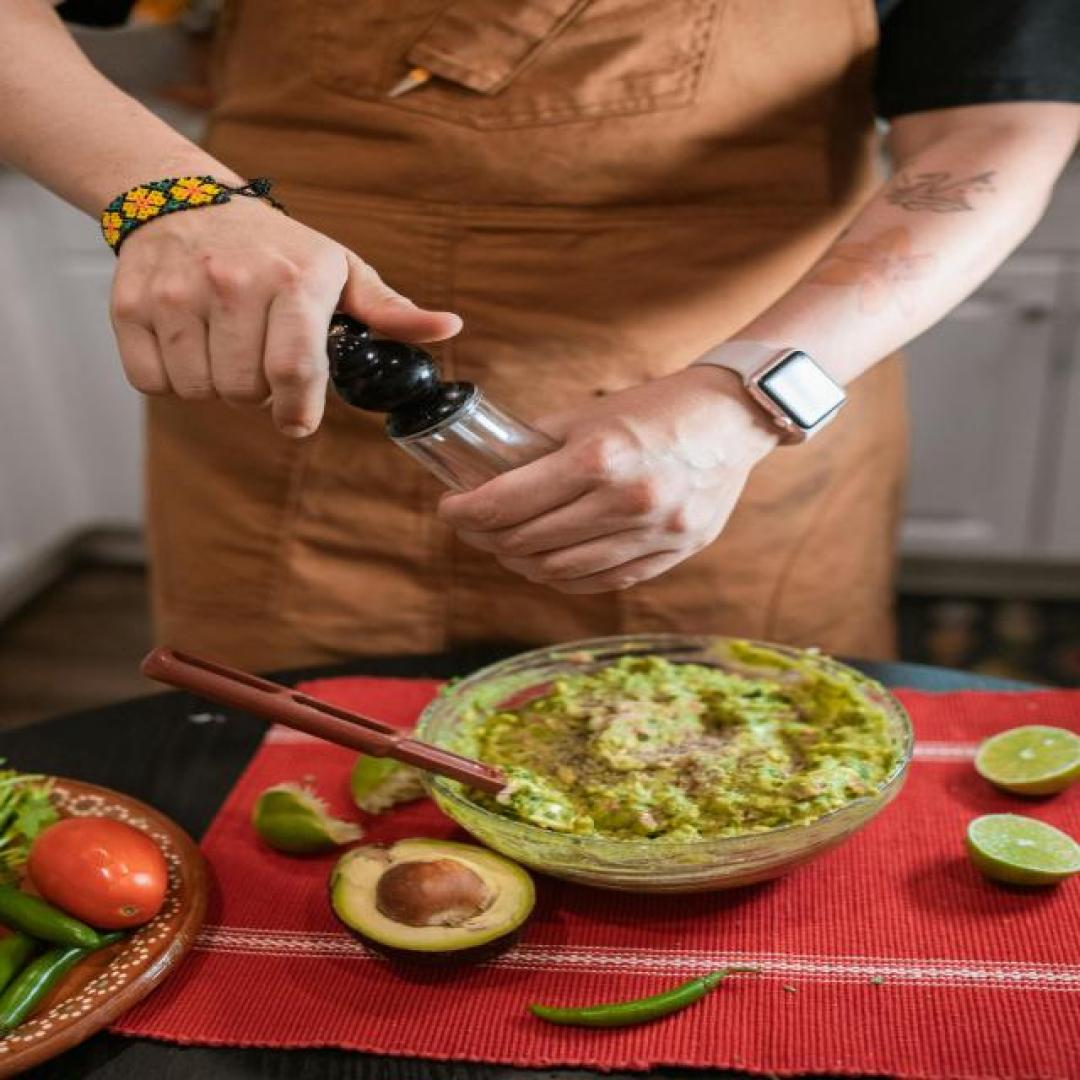matang: (27, 817, 169, 928)
